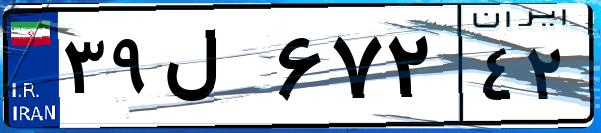2: (385, 28, 445, 110), (525, 38, 570, 115)
3: (57, 26, 110, 100)
4: (475, 38, 525, 113)
6: (270, 28, 330, 110)
7: (330, 28, 385, 110)
9: (110, 28, 158, 98)
ل: (158, 20, 270, 120)
